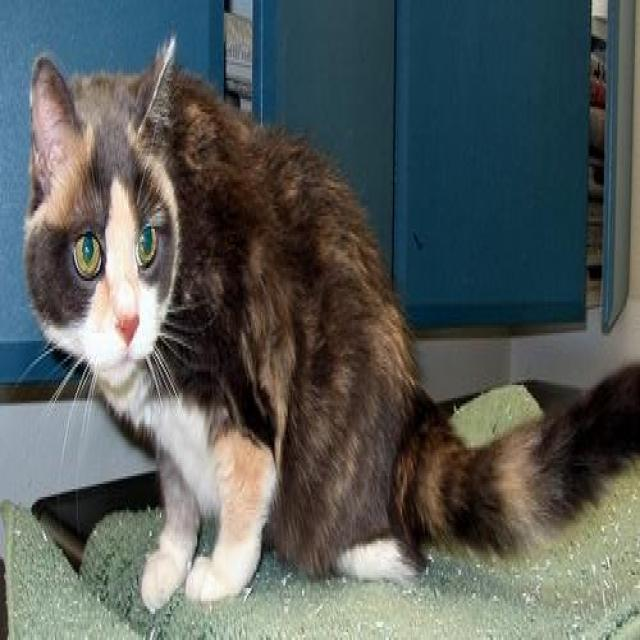Cats: (18, 31, 637, 612)
